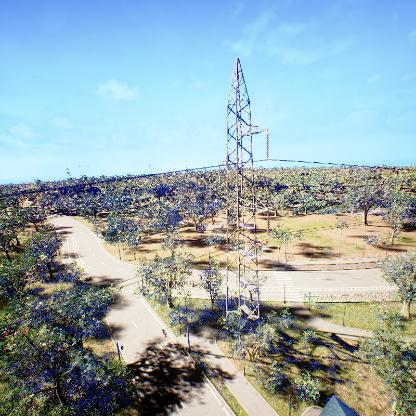tower: (219, 58, 273, 332)
